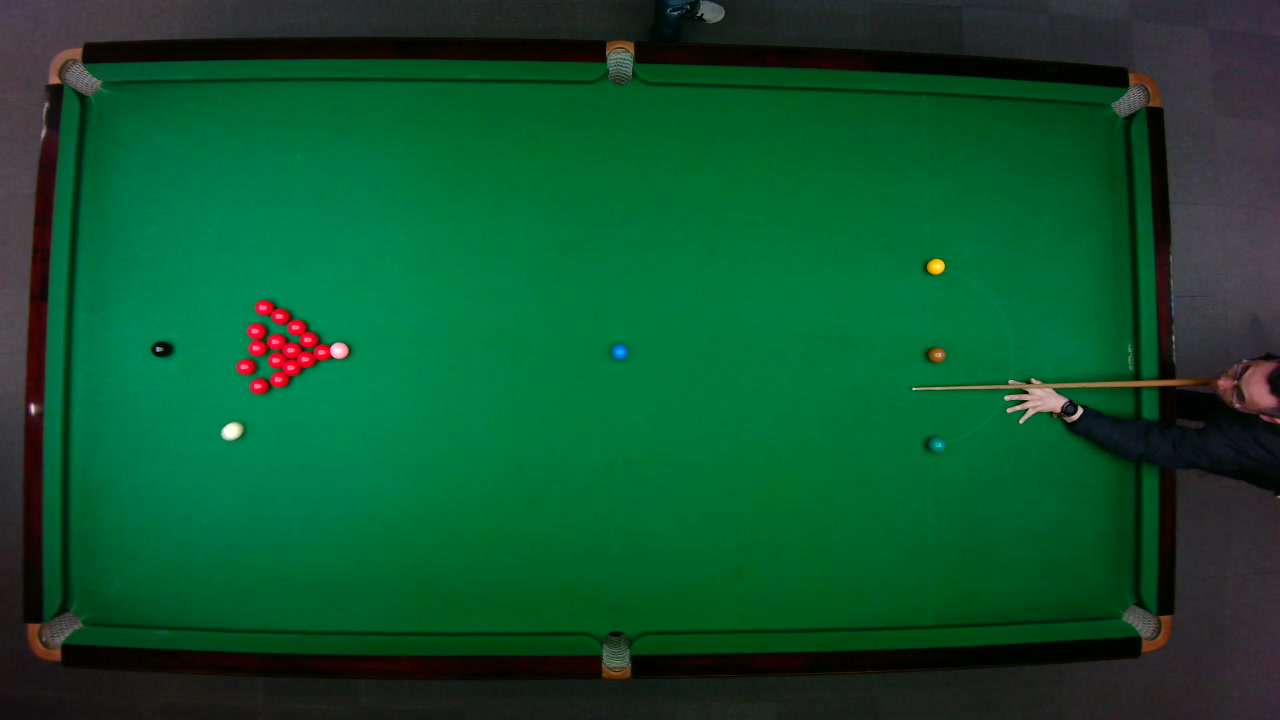bag: (25, 609, 84, 662), (45, 46, 102, 96), (1119, 603, 1171, 652), (1108, 71, 1161, 118), (601, 629, 630, 680), (605, 38, 633, 85)
black: (149, 339, 171, 357)
blue: (610, 342, 628, 360)
brown: (926, 346, 946, 362)
cue: (911, 376, 1228, 395)
green: (926, 435, 946, 452)
pink: (328, 340, 350, 359)
red: (247, 376, 270, 394), (234, 357, 256, 375), (296, 349, 316, 368), (253, 298, 274, 316), (286, 317, 307, 335), (297, 330, 319, 347), (266, 350, 286, 368), (268, 370, 289, 387), (245, 321, 266, 338), (269, 307, 290, 324), (312, 342, 330, 361), (265, 333, 286, 349), (246, 339, 267, 355), (282, 359, 301, 376), (281, 341, 301, 357)
white: (219, 420, 244, 440)
yellow: (925, 257, 945, 275)
zone: (922, 266, 1013, 445)
